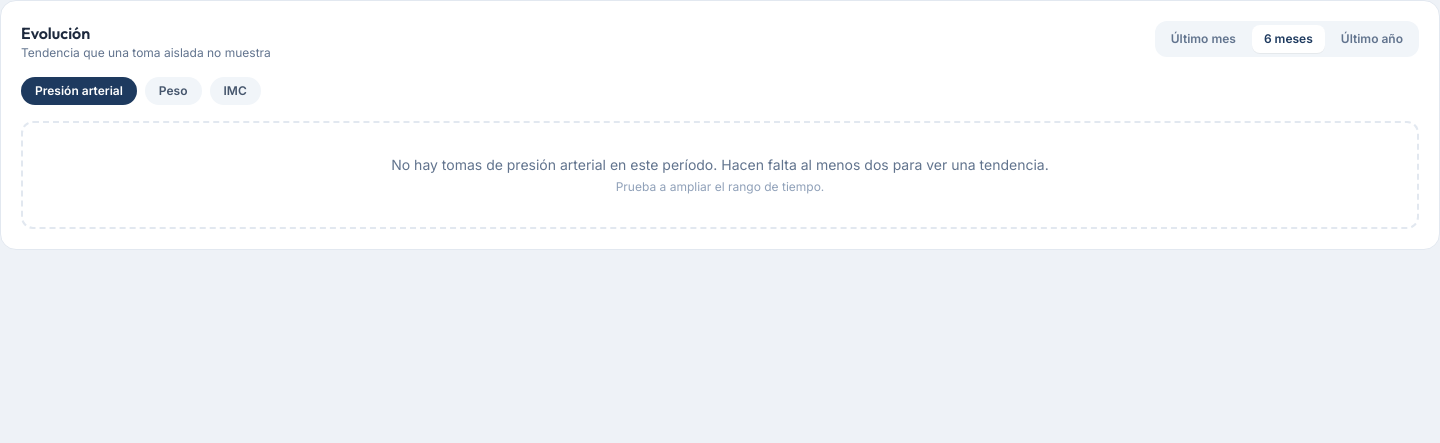
Scenario: Evolución de signos vitales › cambiar el rango filtra los datos que ya están en memoria
expect the message shows "No hay tomas": met, box x1=391 y1=156 x2=717 y2=173
Step 1. Click the button "Último año" → click(1372, 39), box x1=1329 y1=25 x2=1415 y2=53
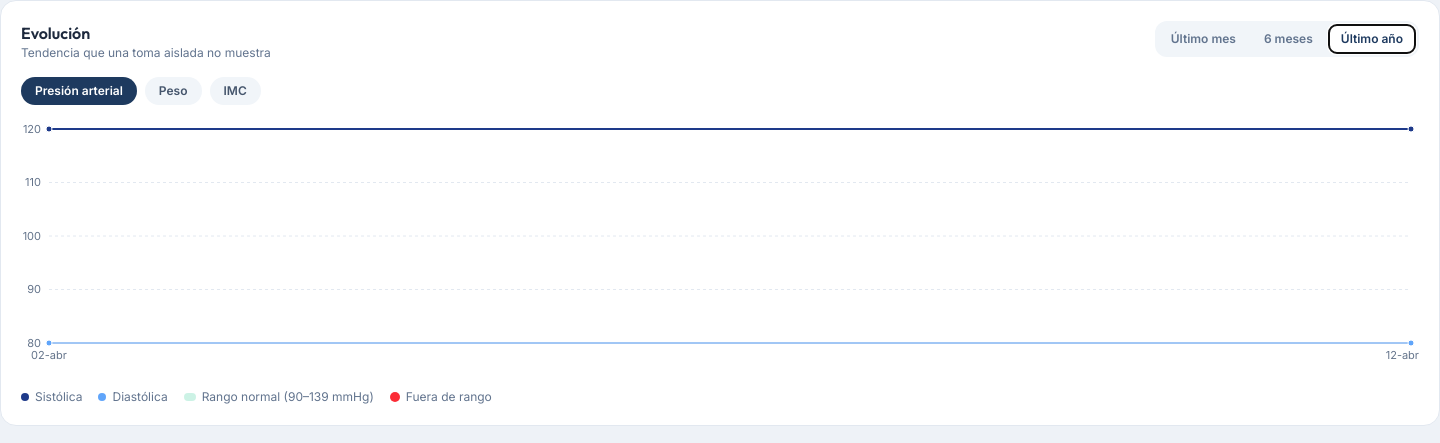
expect the message "No hay tomas de presión arterial en este período. Hacen falta al menos dos para" is gone: met
